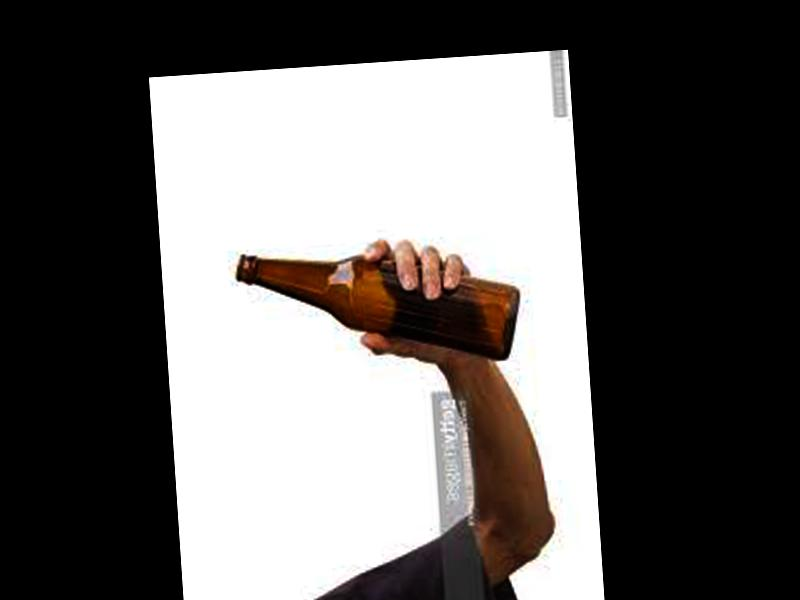Beer: (236, 237, 522, 380)
